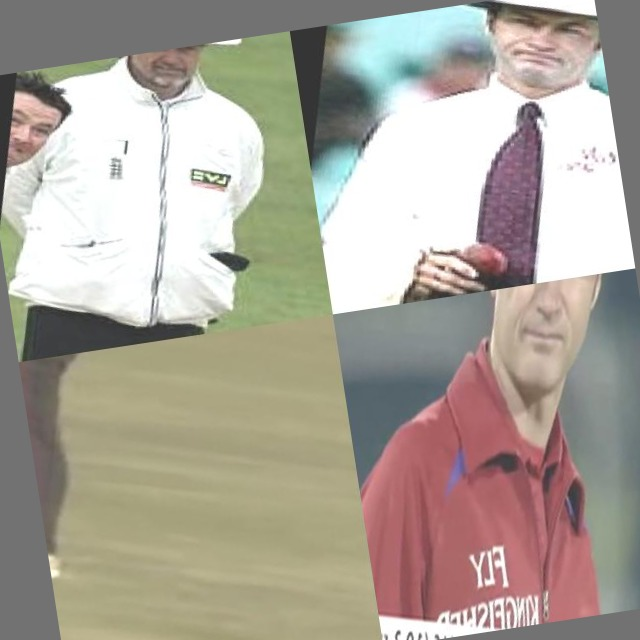No_Action: (333, 268, 640, 640), (0, 31, 333, 362), (19, 335, 234, 616)
Out: (290, 0, 635, 314)
